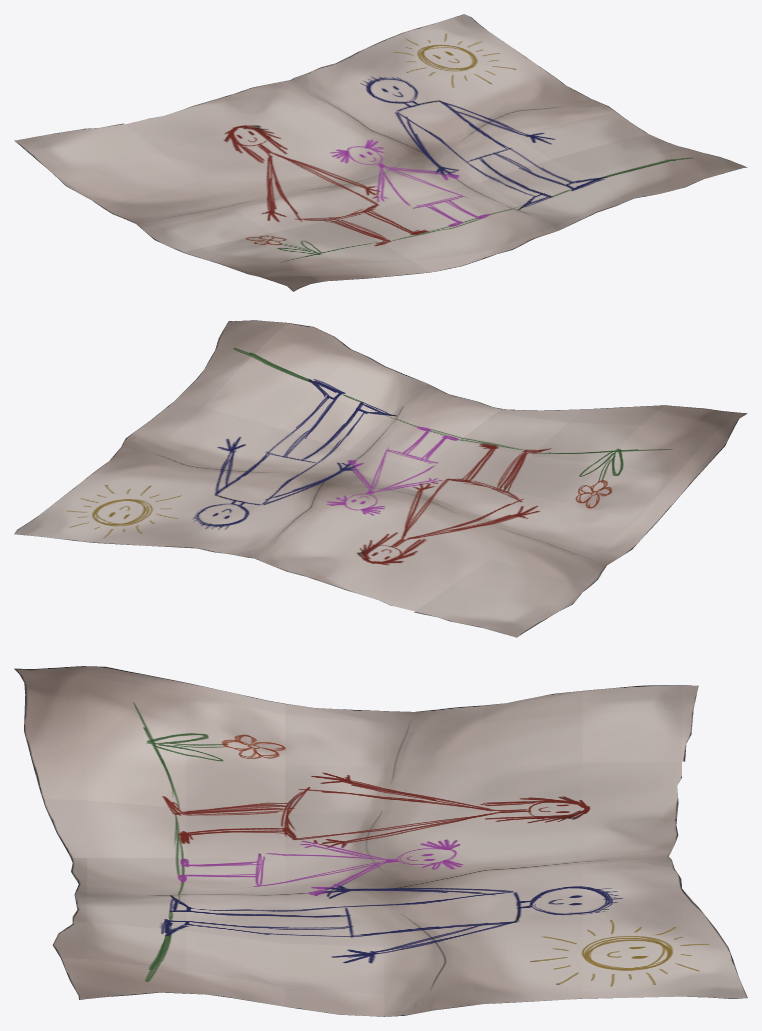
The model's file is pic1.fbx.
The picture shows the model from 3 angles, top to bottom: view 1: azimuth 30°, elevation 25°; view 2: azimuth 150°, elevation 25°; view 3: azimuth 270°, elevation 25°; orthographic projection. The views are drawn at different scales.
Parts seen in each view (by area): view 1: Picture; view 2: Picture; view 3: Picture.
Part boxes in pixels (x1,y1,x2,y2): Picture: (14, 14, 747, 291); Picture: (14, 320, 747, 637); Picture: (14, 666, 747, 1016).
Bounding box in the file's own units: 18.12 × 1.27 × 16.66.
